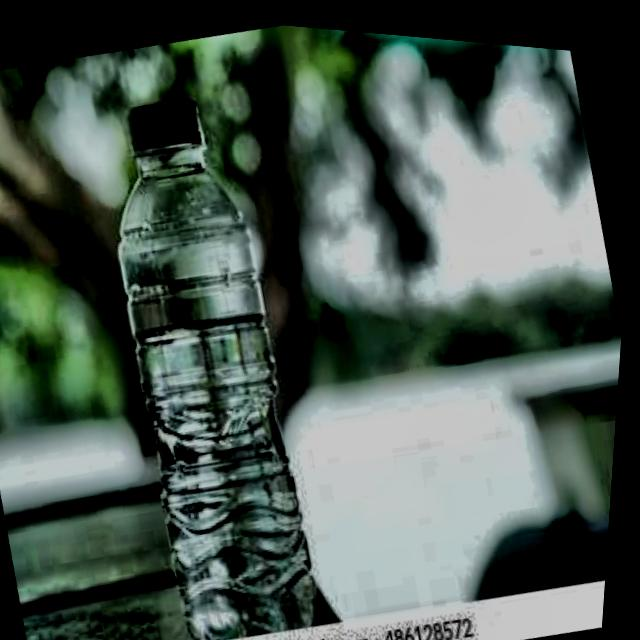Bottles: (46, 58, 368, 640)
